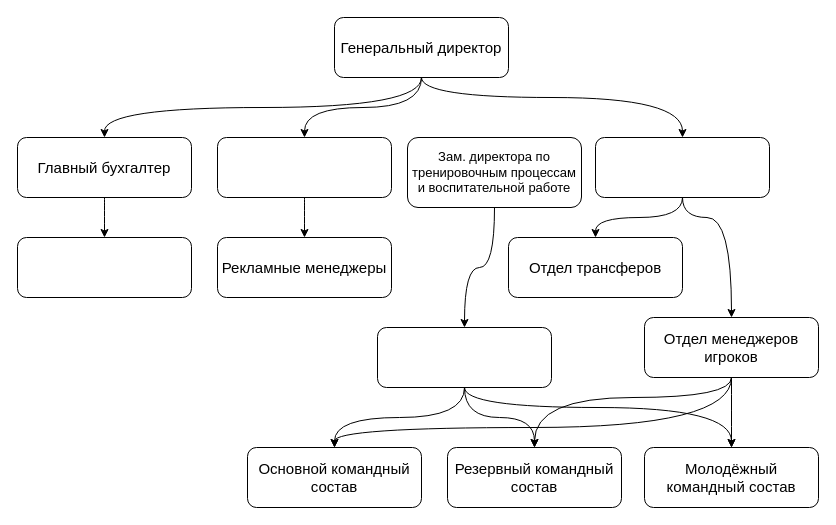
Image size: 836x525. Some labels were removed from this diagram. Here are the shapes that lost their labels. From the top down, the box of each, then its label:
(216, 136, 392, 198): Зам. директора по вопросам рекламы
(594, 136, 770, 198): Зам. директора по менеджменту игроков
(16, 236, 192, 298): Бухгалтерия
(376, 326, 552, 388): Тренерский состав
